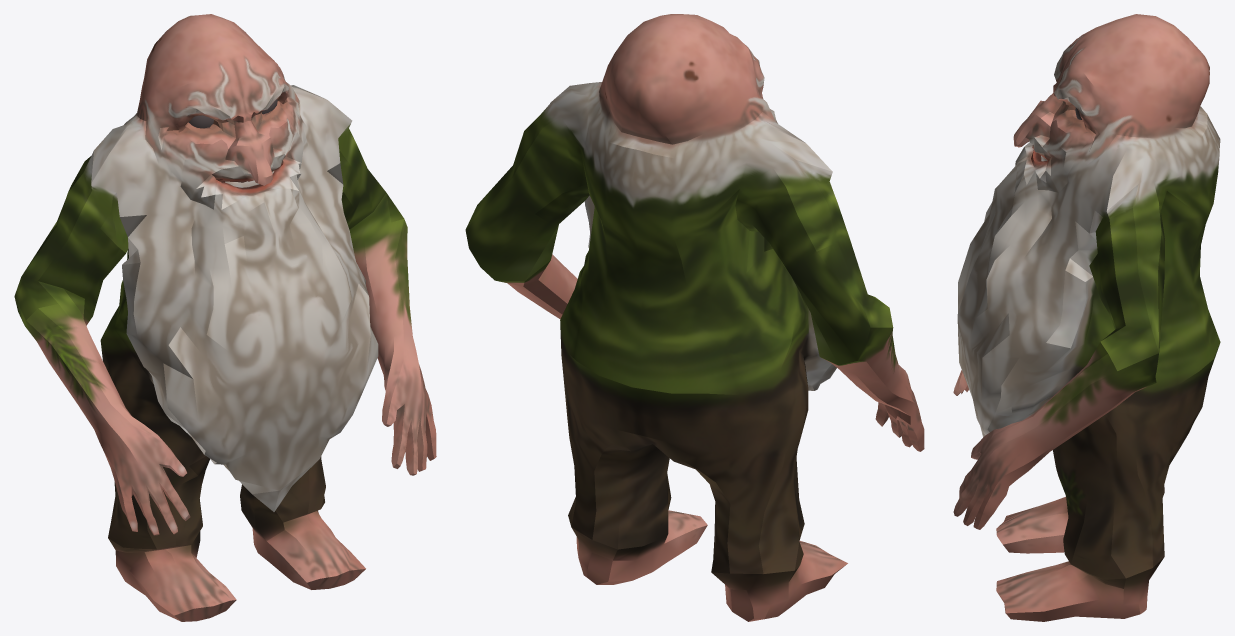
Rendered from gnomeModelLvl2_v2.fbx.
3 renders of one model, left to right at view 1: azimuth 30°, elevation 25°; view 2: azimuth 150°, elevation 25°; view 3: azimuth 270°, elevation 25°, orthographic. The views are drawn at different scales.
Visible parts, largest first — view 1: gnomeLvl2; view 2: gnomeLvl2; view 3: gnomeLvl2.
Part boxes in pixels (x1,y1,x2,y2): gnomeLvl2: [14, 14, 436, 621]; gnomeLvl2: [465, 14, 924, 621]; gnomeLvl2: [953, 14, 1220, 621].
Size of the model in its own units: 26.01 by 35.34 by 15.2.
